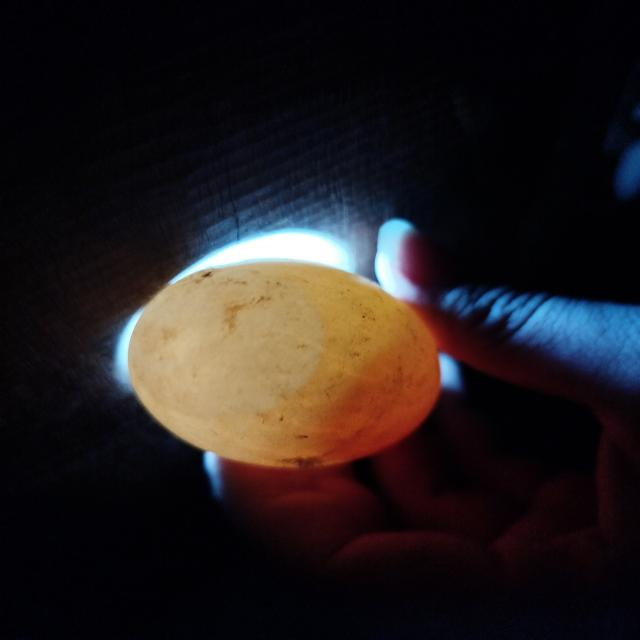Camara de Ar: (139, 270, 326, 417)
